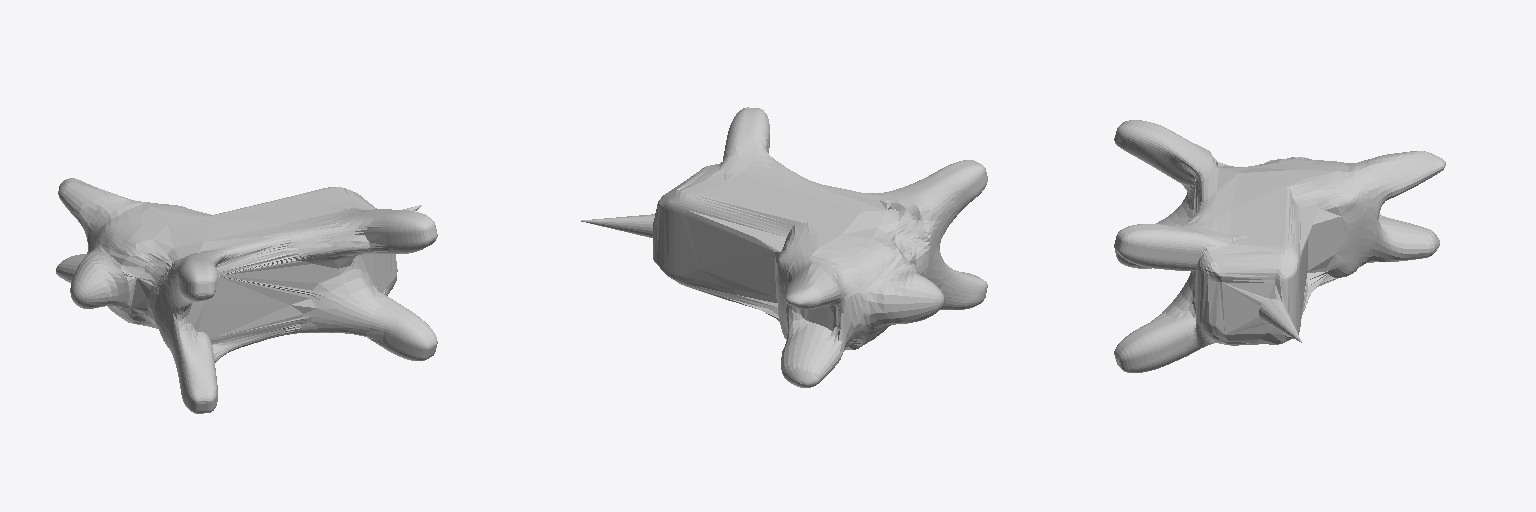
Rendered from pinata.obj.
The picture shows the model from 3 angles: view 1: azimuth 30°, elevation 25°; view 2: azimuth 150°, elevation 25°; view 3: azimuth 270°, elevation 25°; orthographic projection.
Parts seen in each view (by area): view 1: Super_Blorr; view 2: Super_Blorr; view 3: Super_Blorr.
Boxes of the visible parts, box(x1,y1,x2,y2) form: Super_Blorr: box(56, 178, 437, 413); Super_Blorr: box(581, 107, 987, 387); Super_Blorr: box(1114, 120, 1445, 372).
Bounding box in the file's own units: 19.6 × 7.43 × 15.75.